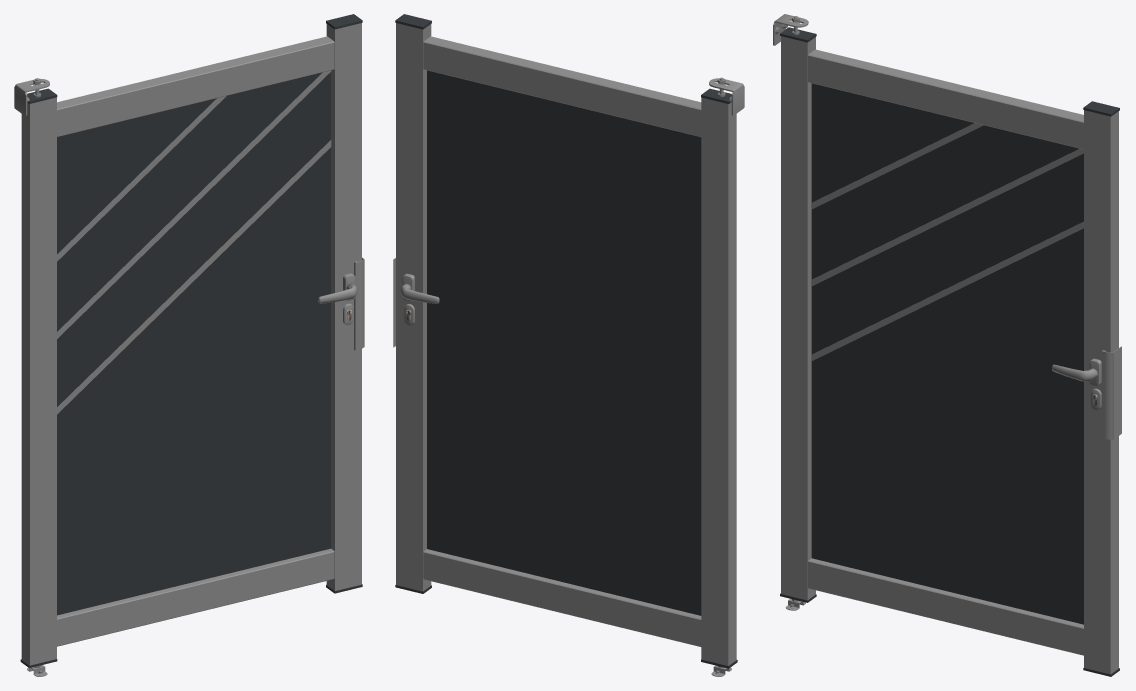
3 renders of one model, left to right at view 1: azimuth 30°, elevation 25°; view 2: azimuth 150°, elevation 25°; view 3: azimuth 330°, elevation 25°, orthographic.
Parts seen in each view (by area): view 1: Chapa Alucobond026, Shape107412643, Shape107412638, Shape107412660, Shape107412659, Rectangle041, Rectangle043, Rectangle042, Shape107412637, Rectangle057; view 2: Chapa Alucobond026, Shape107412643, Shape107412638, Shape107412660, Shape107412659, Rectangle057; view 3: Chapa Alucobond026, Shape107412638, Shape107412643, Shape107412660, Shape107412659, Rectangle041, Rectangle043, Shape107412637, Rectangle042.
Boxes of the visible parts, box(x1,y1,x2,y2) form: Chapa Alucobond026: box(57, 72, 330, 615); Shape107412643: box(21, 97, 56, 665); Shape107412638: box(326, 23, 361, 590); Shape107412660: box(57, 36, 334, 136); Shape107412659: box(57, 548, 334, 646); Rectangle041: box(57, 140, 331, 414); Rectangle043: box(57, 70, 331, 338); Rectangle042: box(57, 96, 226, 261); Shape107412637: box(354, 257, 364, 350); Rectangle057: box(14, 78, 49, 116); Chapa Alucobond026: box(427, 70, 701, 615); Shape107412643: box(701, 97, 736, 665); Shape107412638: box(396, 23, 431, 591); Shape107412660: box(423, 36, 701, 136); Shape107412659: box(423, 549, 701, 646); Rectangle057: box(709, 78, 744, 115); Chapa Alucobond026: box(811, 83, 1083, 624); Shape107412638: box(1084, 110, 1118, 674); Shape107412643: box(781, 36, 815, 600); Shape107412660: box(808, 49, 1083, 149); Shape107412659: box(808, 558, 1083, 655); Rectangle041: box(811, 221, 1083, 361); Rectangle043: box(811, 148, 1083, 286); Shape107412637: box(1101, 346, 1121, 439); Rectangle042: box(811, 123, 983, 209).
Size of the model in its own units: 1015 by 1688 by 152.
7 materials, 4 textured.
